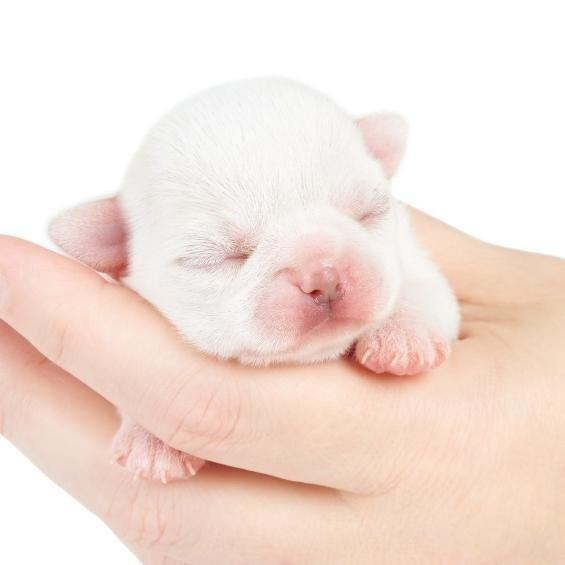puppy-dog: (46, 72, 462, 486)
